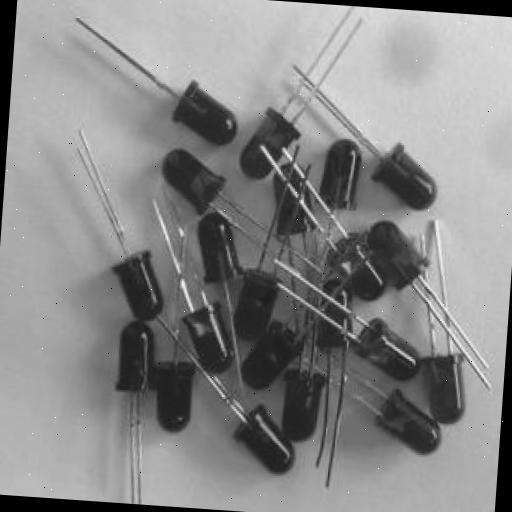LED: (134, 134, 272, 248), (88, 312, 174, 490), (344, 208, 456, 338), (340, 126, 465, 234), (80, 220, 188, 332), (336, 304, 430, 414), (283, 204, 396, 294), (294, 118, 370, 242), (154, 68, 248, 166), (414, 336, 483, 468), (374, 382, 462, 478), (229, 384, 316, 478), (148, 338, 213, 462), (185, 207, 252, 299)
